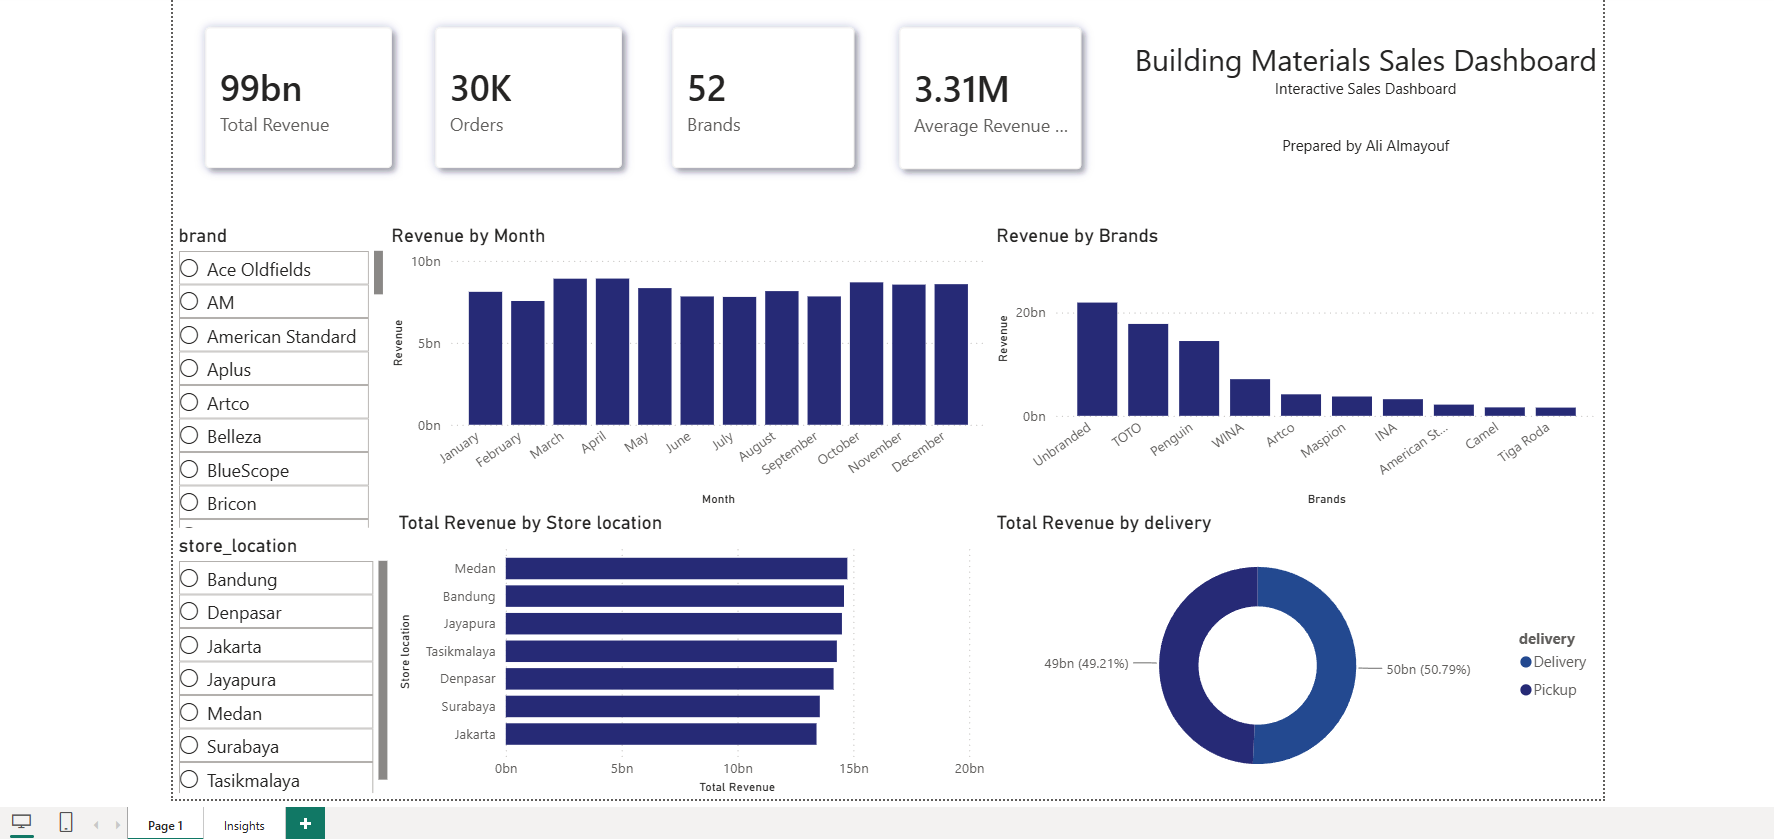

The page's visual inventory and layout, read from the dashboard file:
{"tool":"powerbi","page":{"name":"Page 1","canvas":[1280,720],"ordinal":0},"visuals":[{"type":"cardVisual","fields":{"Data":["Sum(building_supply_store_sales_cleaned.total_price)"]},"box":[0,0,225.7,184.8],"z":0},{"type":"clusteredColumnChart","fields":{"Category":["building_supply_store_sales_cleaned.month"],"Y":["Sum(building_supply_store_sales_cleaned.total_price)"]},"box":[190.6,205.2,541.8,256.8],"z":1000},{"type":"columnChart","fields":{"Y":["Sum(building_supply_store_sales_cleaned.total_price)"],"Category":["building_supply_store_sales_cleaned.brand"]},"box":[732.4,205.2,547.6,256.8],"z":2000},{"type":"clusteredBarChart","fields":{"Y":["Sum(building_supply_store_sales_cleaned.total_price)"],"Category":["building_supply_store_sales_cleaned.store_location"]},"box":[197.4,462,535,257.8],"z":3000},{"type":"textbox","box":[855.9,0,424.1,184.8],"z":4000},{"type":"listSlicer","fields":{"Values":["building_supply_store_sales_cleaned.store_location"]},"box":[0,482.4,197.4,237.3],"z":5000},{"type":"listSlicer","fields":{"Values":["building_supply_store_sales_cleaned.brand"]},"box":[0,205.2,193.6,277.2],"z":6000},{"type":"donutChart","fields":{"Y":["Sum(building_supply_store_sales_cleaned.total_price)"],"Category":["building_supply_store_sales_cleaned.delivery"]},"box":[732.4,462,547.6,257.8],"z":7000},{"type":"cardVisual","fields":{"Data":["CountNonNull(building_supply_store_sales_cleaned.product_name)"]},"box":[206.2,0,225.7,184.8],"z":8000},{"type":"cardVisual","fields":{"Data":["Count(building_supply_store_sales_cleaned.brand)"]},"box":[418.2,0,221.8,184.8],"z":9000},{"type":"cardVisual","fields":{"Data":["building_supply_store_sales_cleaned.Average Revenue per Order"]},"box":[621.9,0,221.3,185.1],"z":9001}]}

Visuals, with their boxes on the page's 1280x720 design canvas (x1, y1, x2, y2). These are canvas units, not pixel positions in the 1774x839 screenshot, which may show the page scaled, cropped or inside an application window:
cardVisual - Sum(building_supply_store_sales_cleaned.total_price): 0, 0, 226, 185
clusteredColumnChart - building_supply_store_sales_cleaned.month x Sum(building_supply_store_sales_cleaned.total_price): 191, 205, 732, 462
columnChart - Sum(building_supply_store_sales_cleaned.total_price) x building_supply_store_sales_cleaned.brand: 732, 205, 1280, 462
clusteredBarChart - Sum(building_supply_store_sales_cleaned.total_price) x building_supply_store_sales_cleaned.store_location: 197, 462, 732, 720
textbox: 856, 0, 1280, 185
listSlicer - building_supply_store_sales_cleaned.store_location: 0, 482, 197, 720
listSlicer - building_supply_store_sales_cleaned.brand: 0, 205, 194, 482
donutChart - Sum(building_supply_store_sales_cleaned.total_price) x building_supply_store_sales_cleaned.delivery: 732, 462, 1280, 720
cardVisual - CountNonNull(building_supply_store_sales_cleaned.product_name): 206, 0, 432, 185
cardVisual - Count(building_supply_store_sales_cleaned.brand): 418, 0, 640, 185
cardVisual - building_supply_store_sales_cleaned.Average Revenue per Order: 622, 0, 843, 185
